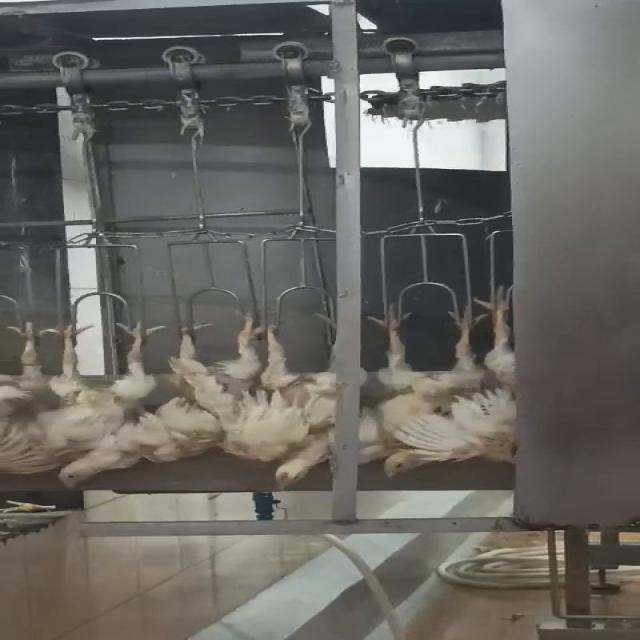chicken: (376, 280, 514, 482), (50, 316, 184, 491), (359, 304, 485, 484), (167, 307, 267, 465), (260, 307, 336, 488), (0, 322, 64, 476)
